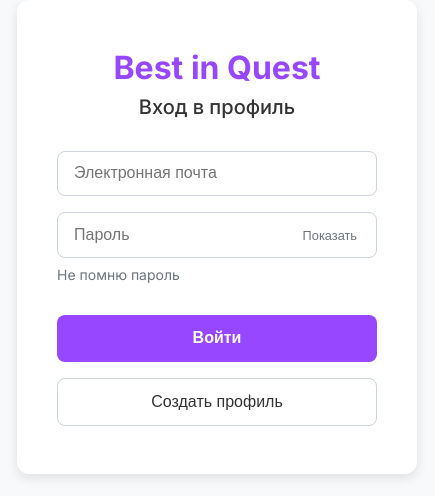
Scenario: LoginPage › handles successful login
Step 1. Type "test@example.com" into the field with placeholder "Электронная почта" → {"x": 217, "y": 173}, box [57,151,377,196]
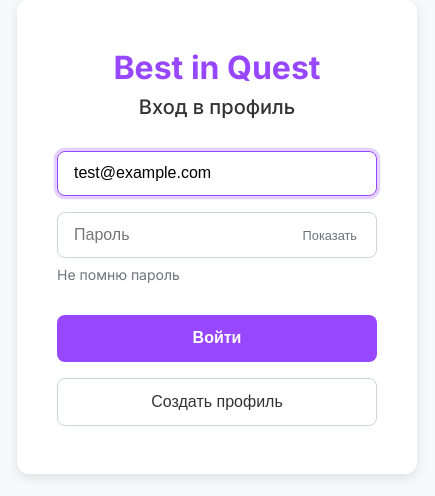
Step 2. Type "password123" into the password field with placeholder "Пароль" → {"x": 217, "y": 235}, box [57,212,377,258]
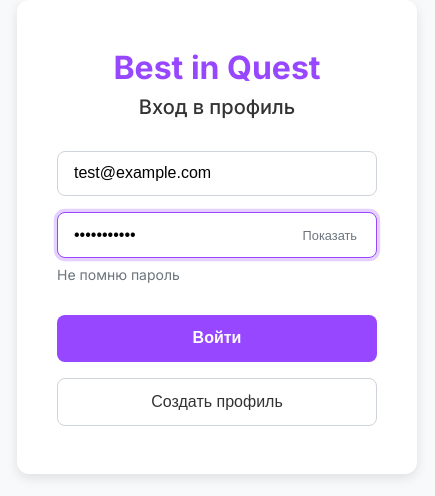
Expected: the button "Создать профиль" is enabled, [57,378,377,426]
Step 3. Click the button "Войти" → {"x": 217, "y": 338}, box [57,315,377,362]
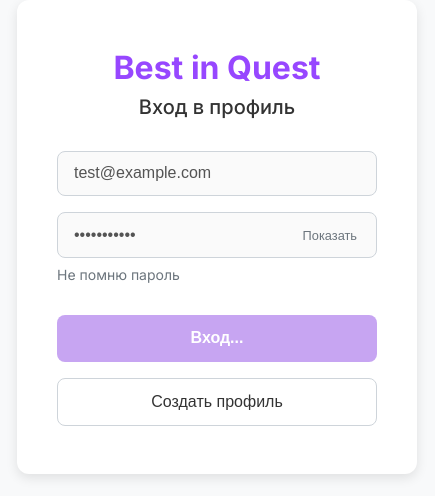
Expected: the button "Создать профиль" is disabled, [57,378,377,426]
Expected: the button "Войти" reads "Вход...", [57,315,377,362]
Expected: the button "Войти" is disabled, [57,315,377,362]
